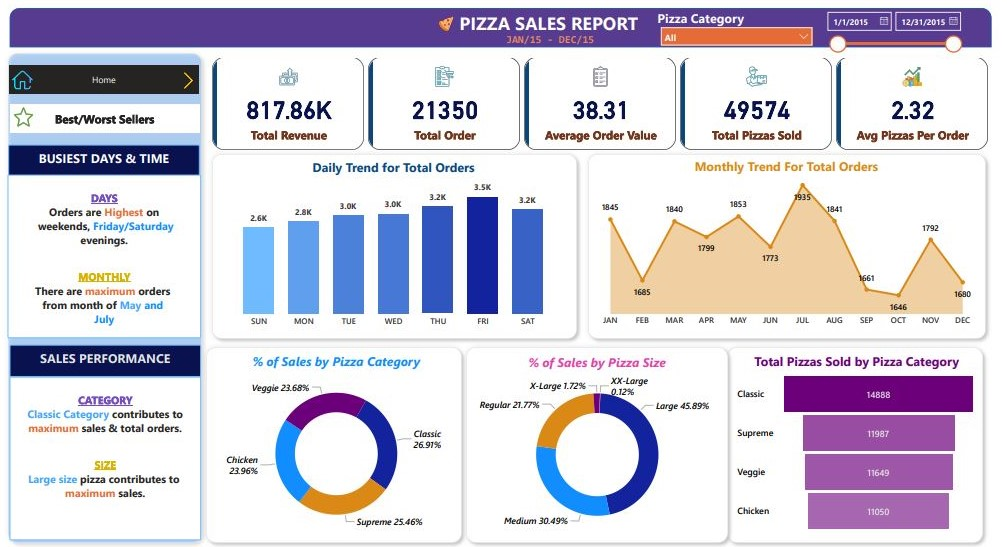

The dashboard page shown, as its layout file describes it:
{"tool":"powerbi","page":{"name":"Home","canvas":[1500,820],"ordinal":0},"visuals":[{"type":"cardVisual","fields":{"Data":["pizza_sales.Total Revenue","pizza_sales.Total Order","pizza_sales.Average Order Value","pizza_sales.Total Pizzas Sold","pizza_sales.Average Pizzas Per Order"]},"box":[310.3,79.3,1173.6,147.1],"z":0},{"type":"group","id":"g1","title":"Group 1","box":[870,220.3,613,294.2],"z":0,"group":"g4"},{"type":"shape","box":[10.3,9.2,1472.4,58.6],"z":1000},{"type":"areaChart","title":"Monthly Trend For Total Orders","fields":{"Category":["pizza_sales.Order Month"],"Y":["pizza_sales.Total Order"]},"box":[886.9,233.6,576.8,262.5],"z":1000,"group":"g4"},{"type":"group","id":"g2","title":"Group 1","box":[296.5,509.7,401.4,310.1],"z":2000},{"type":"textbox","box":[680,7.5,291.2,47.5],"z":3000},{"type":"textbox","box":[750,41.2,151.2,31.2],"z":4000},{"type":"image","box":[647.5,5,33.8,53.8],"z":5000},{"type":"shape","box":[306.2,220.3,563.8,294.2],"z":5000,"group":"g3"},{"type":"shape","box":[870,220.3,613,294.2],"z":5000,"group":"g1"},{"type":"shape","box":[296.5,509.7,401.4,310.1],"z":5000,"group":"g6"},{"type":"shape","box":[686.3,509.7,410.1,310.1],"z":5000,"group":"g7"},{"type":"shape","box":[1078.3,510.1,401.4,310],"z":5000,"group":"g5"},{"type":"group","id":"g3","title":"Group 1","box":[306.2,220.3,563.8,294.2],"z":6000},{"type":"group","id":"g4","title":"Group 2","box":[870,220.3,613,294.2],"z":7000},{"type":"columnChart","title":"Daily Trend for Total Orders","fields":{"Category":["pizza_sales.Order Day"],"Y":["pizza_sales.Total Order"]},"box":[328.8,235,514.2,262.5],"z":7000,"group":"g3"},{"type":"donutChart","title":"% of Sales by Pizza Category","fields":{"Category":["pizza_sales.pizza_category"],"Y":["pizza_sales.Total Revenue"]},"box":[316.8,525.9,368.1,280.6],"z":7005,"group":"g6"},{"type":"donutChart","title":"% of Sales by Pizza Size","fields":{"Y":["pizza_sales.Total Revenue"],"Series":["pizza_sales.pizza_size"]},"box":[699.6,527.3,385.1,279.3],"z":7005,"group":"g7"},{"type":"funnel","title":"Total Pizzas Sold by Pizza Category","fields":{"Category":["pizza_sales.pizza_category"],"Y":["pizza_sales.Total Pizzas Sold"]},"box":[1097.1,525.6,368.1,280.5],"z":7006,"group":"g5"},{"type":"group","id":"g5","title":"Group 3","box":[1078.3,510.1,401.4,310.1],"z":8000},{"type":"shape","box":[0,68.1,305.8,752.2],"z":9000},{"type":"group","id":"g6","title":"Group 5","box":[296.5,509.7,401.4,310.1],"z":9001,"group":"g2"},{"type":"group","id":"g7","title":"Group 4","box":[686.3,509.7,410.1,310.1],"z":10000},{"type":"textbox","box":[8.4,214,287,47.8],"z":11000,"group":"g10"},{"type":"group","id":"g8","title":"Group 6","box":[10.1,514.5,287,292.8],"z":11000},{"type":"textbox","box":[10.1,514.5,287,47.8],"z":11000,"group":"g8"},{"type":"group","id":"g9","title":"Group 6","box":[7,214,289.9,289.9],"z":12000},{"type":"textbox","box":[7,258.9,289.9,244.9],"z":12000,"group":"g10"},{"type":"textbox","box":[10.1,562.3,287,244.9],"z":12000,"group":"g8"},{"type":"group","id":"g10","title":"Group 7","box":[7,214,289.9,289.9],"z":12003,"group":"g9"},{"type":"slicer","title":"Pizza Category","fields":{"Values":["pizza_sales.pizza_category"]},"box":[977,11.5,247.1,56.3],"z":13000},{"type":"slicer","title":"Order Date","fields":{"Values":["pizza_sales.order_date"]},"box":[1224.1,4.6,223,77],"z":14000},{"type":"pageNavigator","box":[9.2,95.4,285.1,43.7],"z":14001},{"type":"pageNavigator","box":[10.3,152.9,285.1,43.7],"z":14002},{"type":"image","box":[260.9,97.7,34.5,39.1],"z":14003},{"type":"image","box":[6.9,96.6,44.8,39.1],"z":14004},{"type":"image","box":[9.2,152.9,43.7,37.9],"z":14005}]}

Visuals, with their boxes in screenshot pixels (x1, y1, x2, y2), scaled from the page's 1500x820 canvas onto the 1007x547 screenshot:
cardVisual - pizza_sales.Total Revenue x pizza_sales.Total Order: BBox(208, 53, 996, 151)
"Group 1" group: BBox(584, 147, 996, 343)
shape: BBox(7, 6, 995, 45)
"Monthly Trend For Total Orders" areaChart: BBox(595, 156, 983, 331)
"Group 1" group: BBox(199, 340, 469, 546)
textbox: BBox(457, 5, 652, 37)
textbox: BBox(504, 27, 605, 48)
image: BBox(435, 3, 457, 39)
shape: BBox(206, 147, 584, 343)
shape: BBox(584, 147, 996, 343)
shape: BBox(199, 340, 469, 546)
shape: BBox(461, 340, 736, 546)
shape: BBox(724, 340, 993, 546)
"Group 1" group: BBox(206, 147, 584, 343)
"Group 2" group: BBox(584, 147, 996, 343)
"Daily Trend for Total Orders" columnChart: BBox(221, 157, 566, 332)
"% of Sales by Pizza Category" donutChart: BBox(213, 351, 460, 538)
"% of Sales by Pizza Size" donutChart: BBox(470, 352, 728, 538)
"Total Pizzas Sold by Pizza Category" funnel: BBox(737, 351, 984, 538)
"Group 3" group: BBox(724, 340, 993, 546)
shape: BBox(0, 45, 205, 546)
"Group 5" group: BBox(199, 340, 469, 546)
"Group 4" group: BBox(461, 340, 736, 546)
textbox: BBox(6, 143, 198, 175)
"Group 6" group: BBox(7, 343, 199, 539)
textbox: BBox(7, 343, 199, 375)
"Group 6" group: BBox(5, 143, 199, 336)
textbox: BBox(5, 173, 199, 336)
textbox: BBox(7, 375, 199, 538)
"Group 7" group: BBox(5, 143, 199, 336)
"Pizza Category" slicer: BBox(656, 8, 822, 45)
"Order Date" slicer: BBox(822, 3, 971, 54)
pageNavigator: BBox(6, 64, 198, 93)
pageNavigator: BBox(7, 102, 198, 131)
image: BBox(175, 65, 198, 91)
image: BBox(5, 64, 35, 91)
image: BBox(6, 102, 36, 127)
